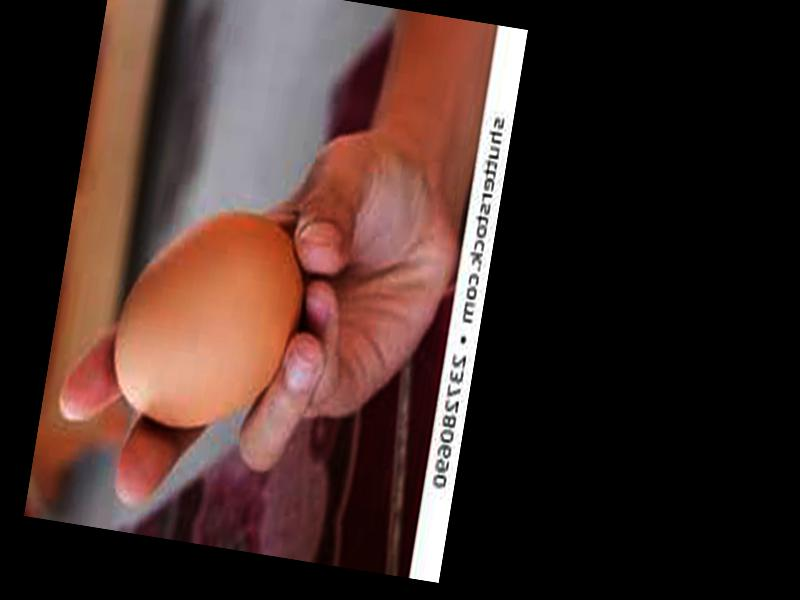Eggs: (103, 198, 313, 447)
